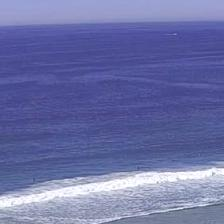surfer: (33, 178, 36, 182), (200, 153, 203, 156), (137, 167, 140, 170), (126, 153, 129, 156), (171, 160, 174, 162)
